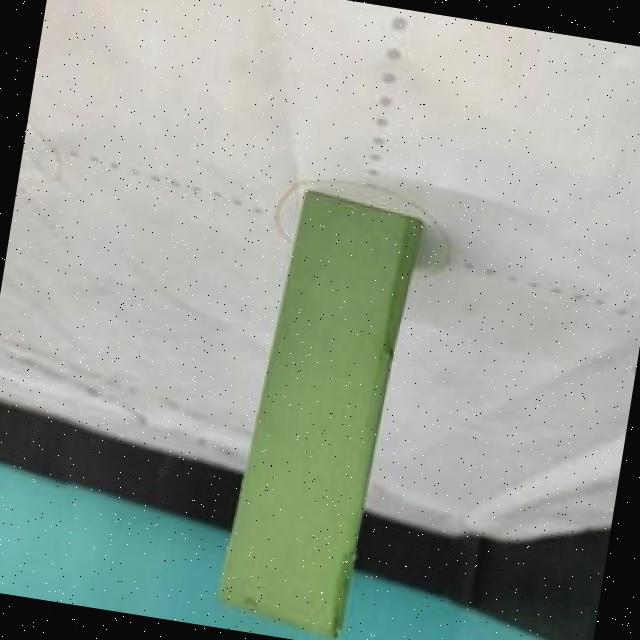greenbox: (207, 180, 420, 640)
